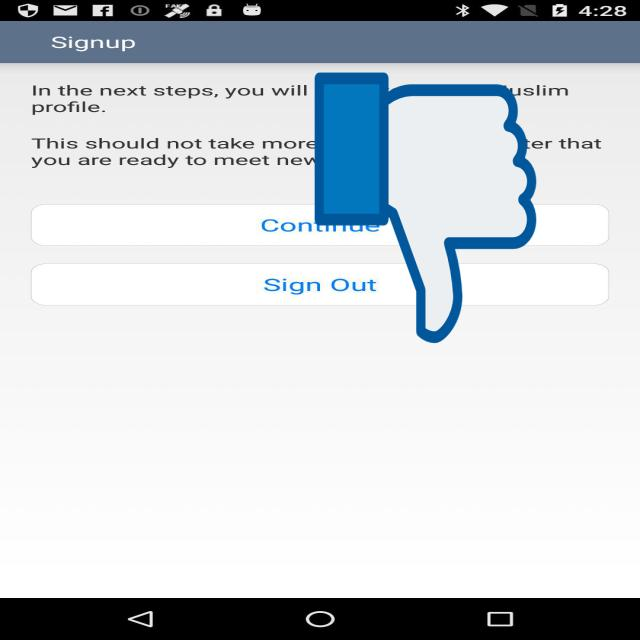obstruction: (315, 67, 536, 349)
